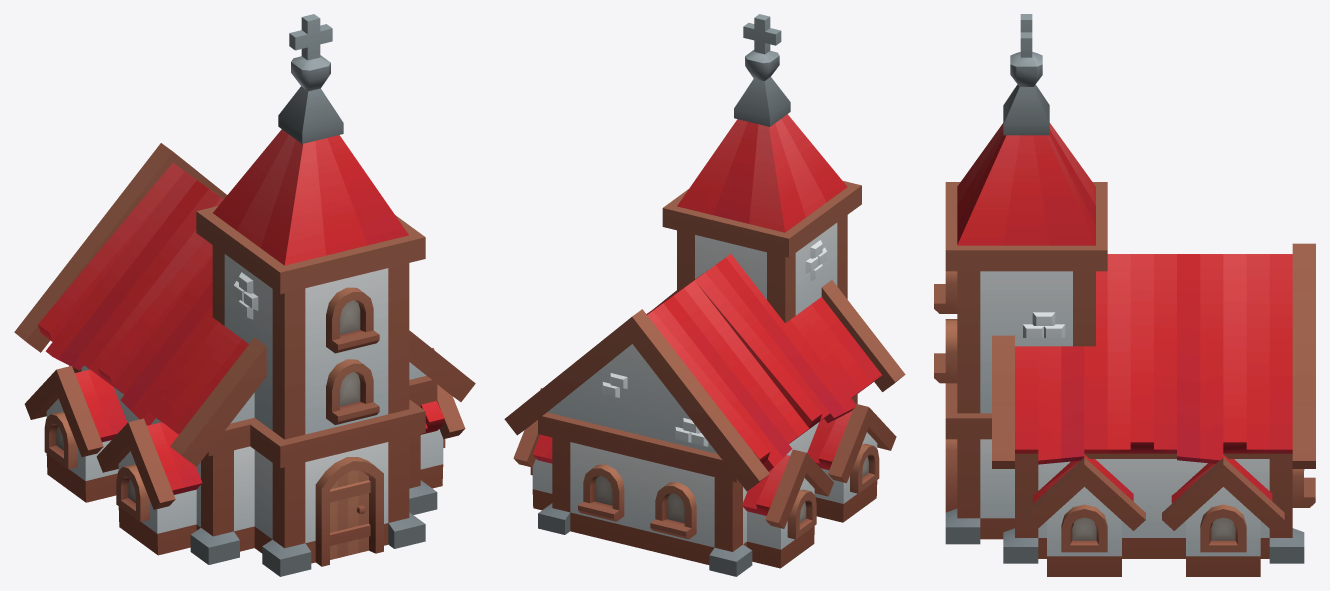
The model's file is chapel.glb.
3 views of the same model, side by side, from view 1: azimuth 30°, elevation 25°; view 2: azimuth 150°, elevation 25°; view 3: azimuth 270°, elevation 25° (orthographic). The views are drawn at different scales.
Parts seen in each view (by area): view 1: building_church_red; view 2: building_church_red; view 3: building_church_red.
Boxes of the visible parts, x1,y1,x2,y2 form: building_church_red: [14, 14, 475, 576]; building_church_red: [504, 14, 905, 576]; building_church_red: [934, 14, 1315, 576].
Bounding box in the file's own units: 1.03 × 1.65 × 1.16.
Materials: 1 (1 with a texture image).
